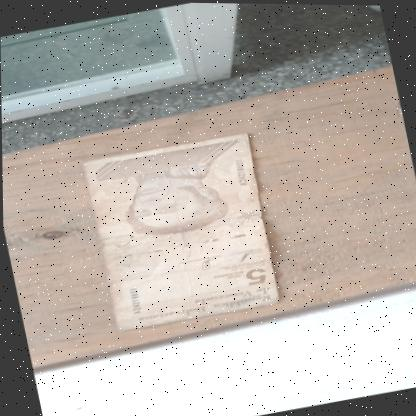five-front-vef: (81, 128, 282, 334)
